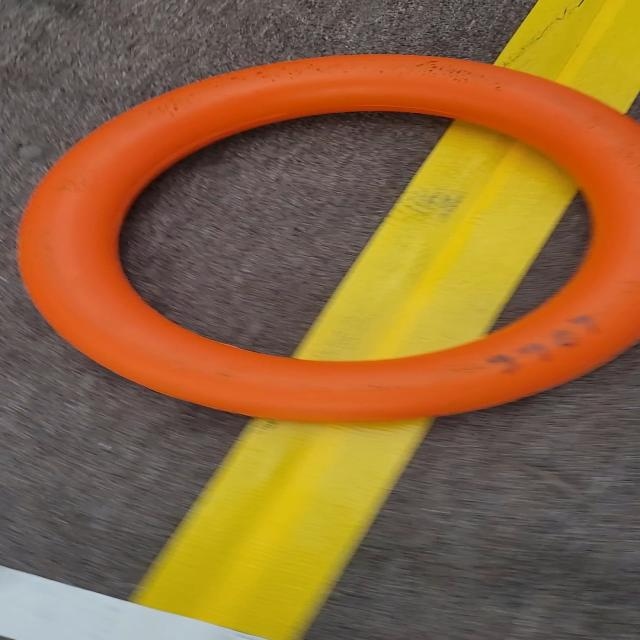note: (10, 50, 640, 427)
